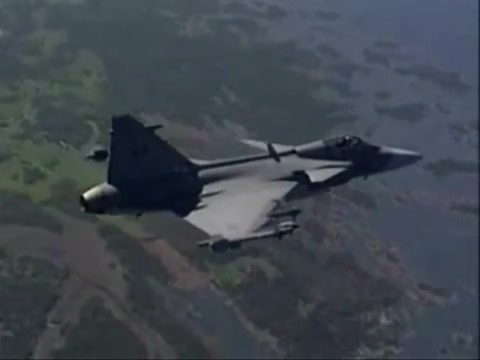aeroplane: (79, 113, 425, 254)
